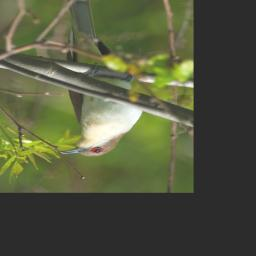Cuckoo: (58, 0, 147, 158)
